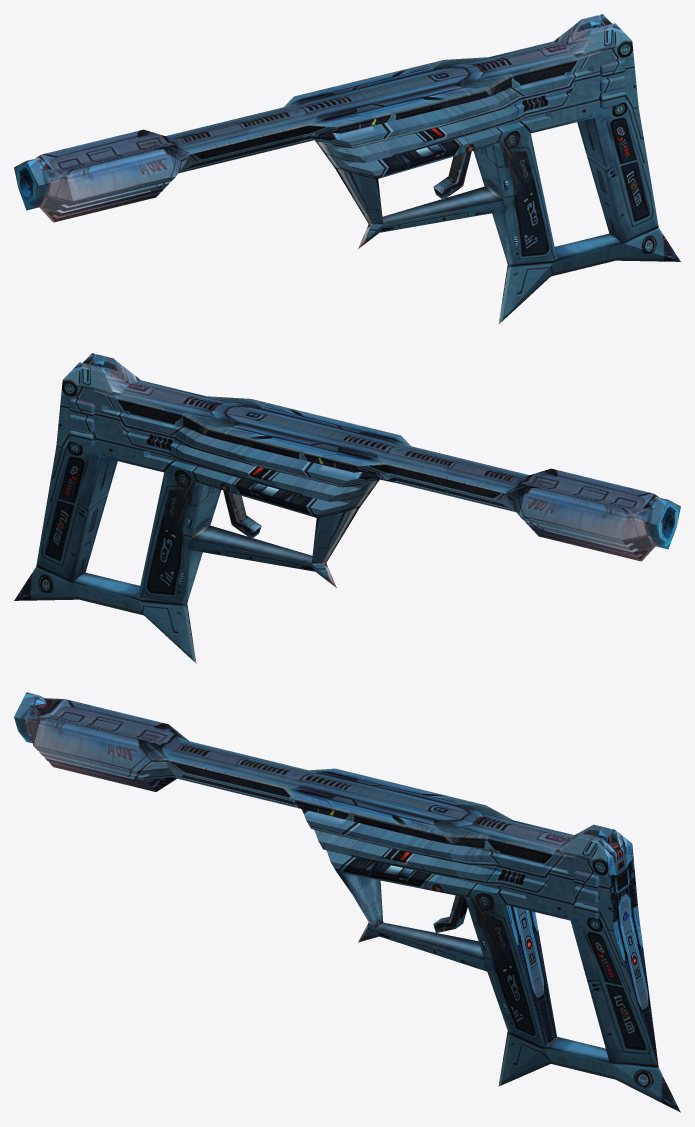
Rendered from gun.glb.
The picture shows the model from 3 angles, top to bottom: view 1: azimuth 30°, elevation 25°; view 2: azimuth 150°, elevation 25°; view 3: azimuth 330°, elevation 25°; orthographic projection.
Visible parts, largest first — view 1: Gun.001; view 2: Gun.001; view 3: Gun.001.
Boxes of the visible parts, box(x1,y1,x2,y2) form: Gun.001: box(14, 14, 680, 324); Gun.001: box(14, 353, 680, 663); Gun.001: box(14, 692, 680, 1112).
Bounding box in the file's own units: 30.33 × 12.37 × 3.36.
Materials: 1 (1 with a texture image).
